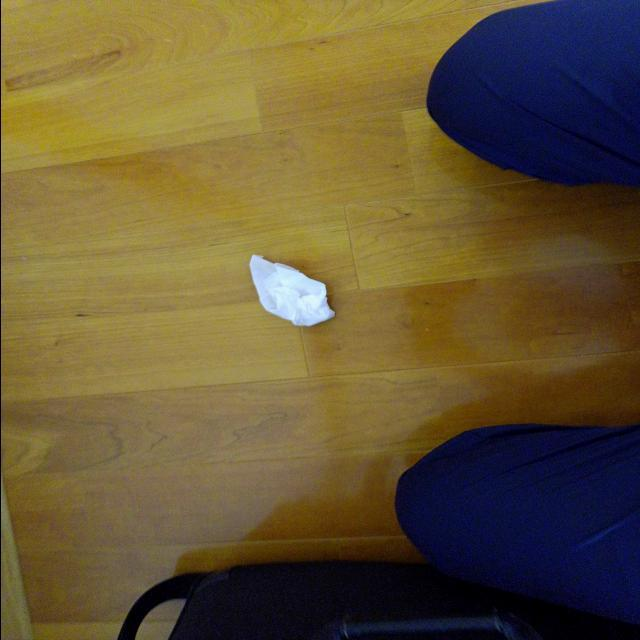Paper: (246, 254, 348, 347)
